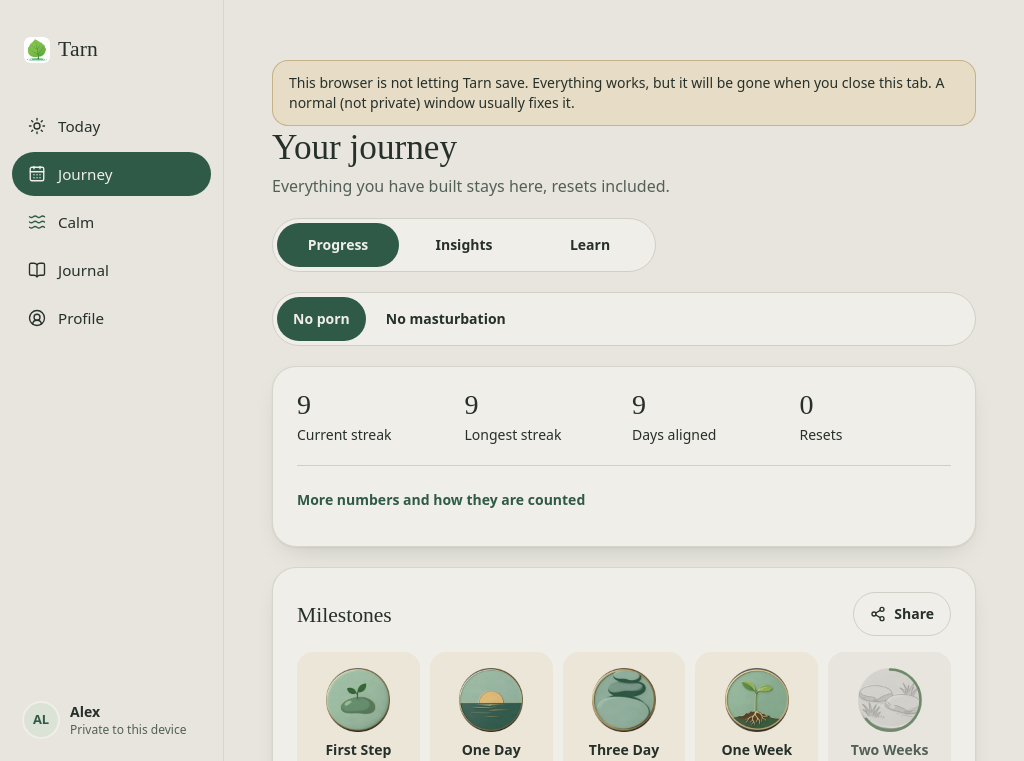
it: journey, journal and profile › has five labeled tabs, marks the current one, and sheets close with Escape
Expected: the links read "Today", "Journey", "Calm", "Journal", "Profile", in this order, [28,116,100,136]; [12,152,211,196]; [28,212,94,232]; [28,260,109,280]; [28,308,104,328]
Click the button "Share".
click(902, 614)  # box [853,592,951,636]
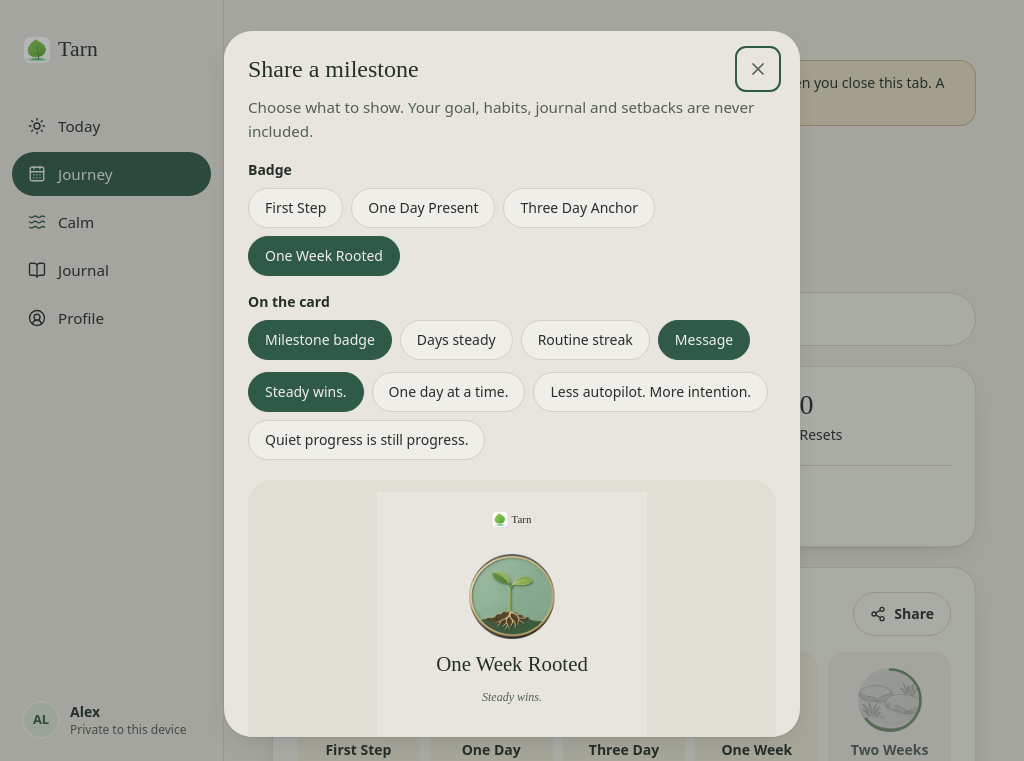
Result: the dialog "Share a milestone" is shown at [224,31,800,737]
Press Escape
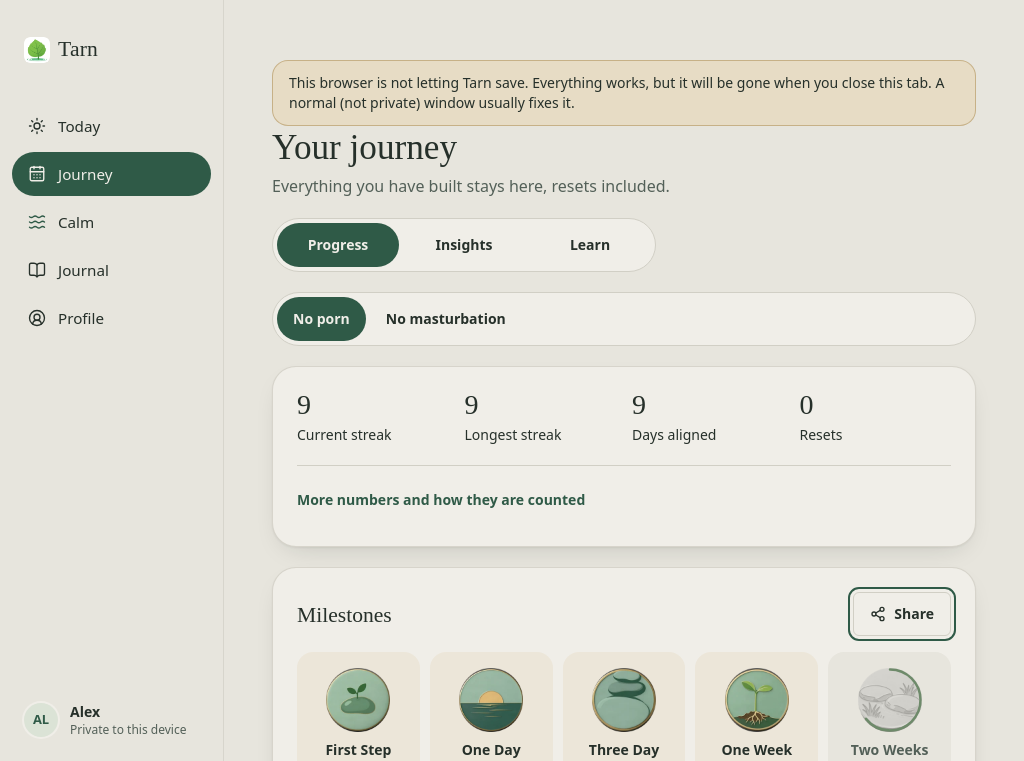
Result: the dialog is gone
